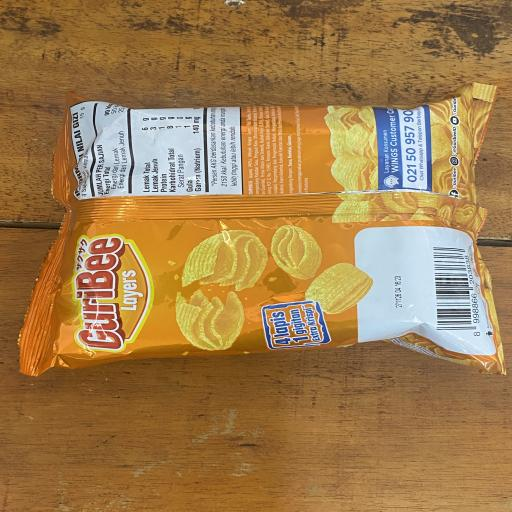Guribee Layers Keju Cripsy: (23, 88, 491, 376)
